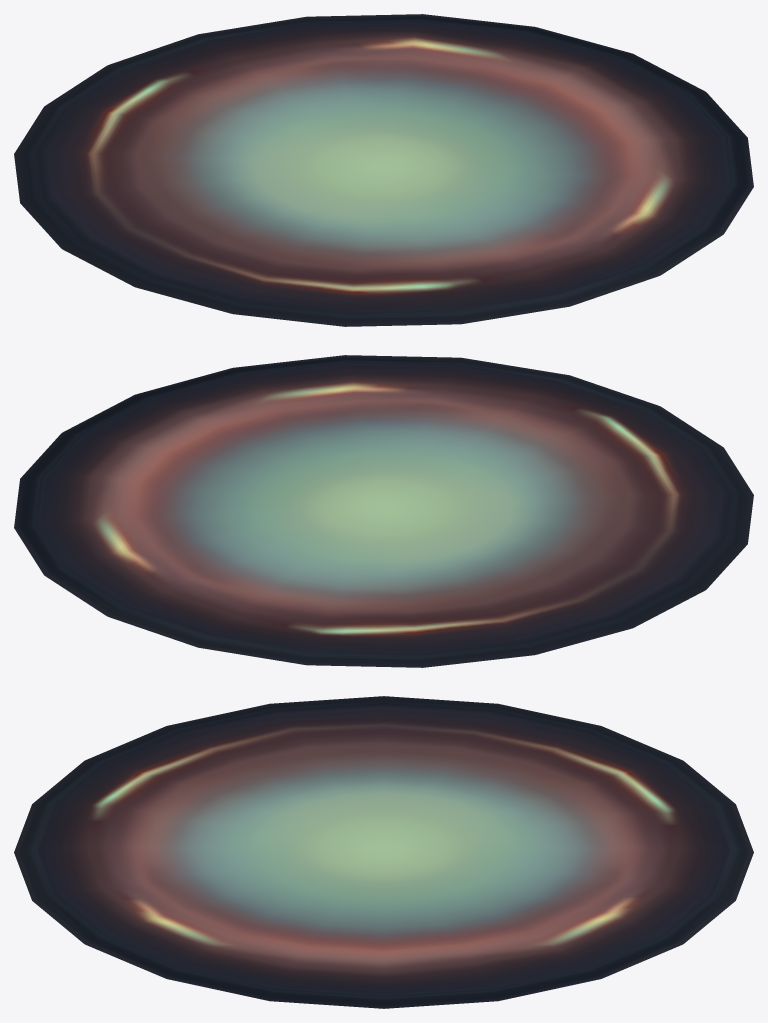
The model's file is setGround.fbx.
3 renders of one model, top to bottom at view 1: azimuth 30°, elevation 25°; view 2: azimuth 150°, elevation 25°; view 3: azimuth 270°, elevation 25°, orthographic.
Visible parts, largest first — view 1: setGround; view 2: setGround; view 3: setGround.
Part boxes in pixels (bbox=[...]): setGround: bbox=[14, 14, 753, 326]; setGround: bbox=[14, 355, 753, 667]; setGround: bbox=[14, 696, 753, 1008].
Size of the model in its own units: 180 by 2.48 by 180.
